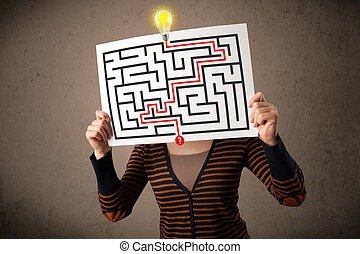maze: (111, 45, 250, 134)
